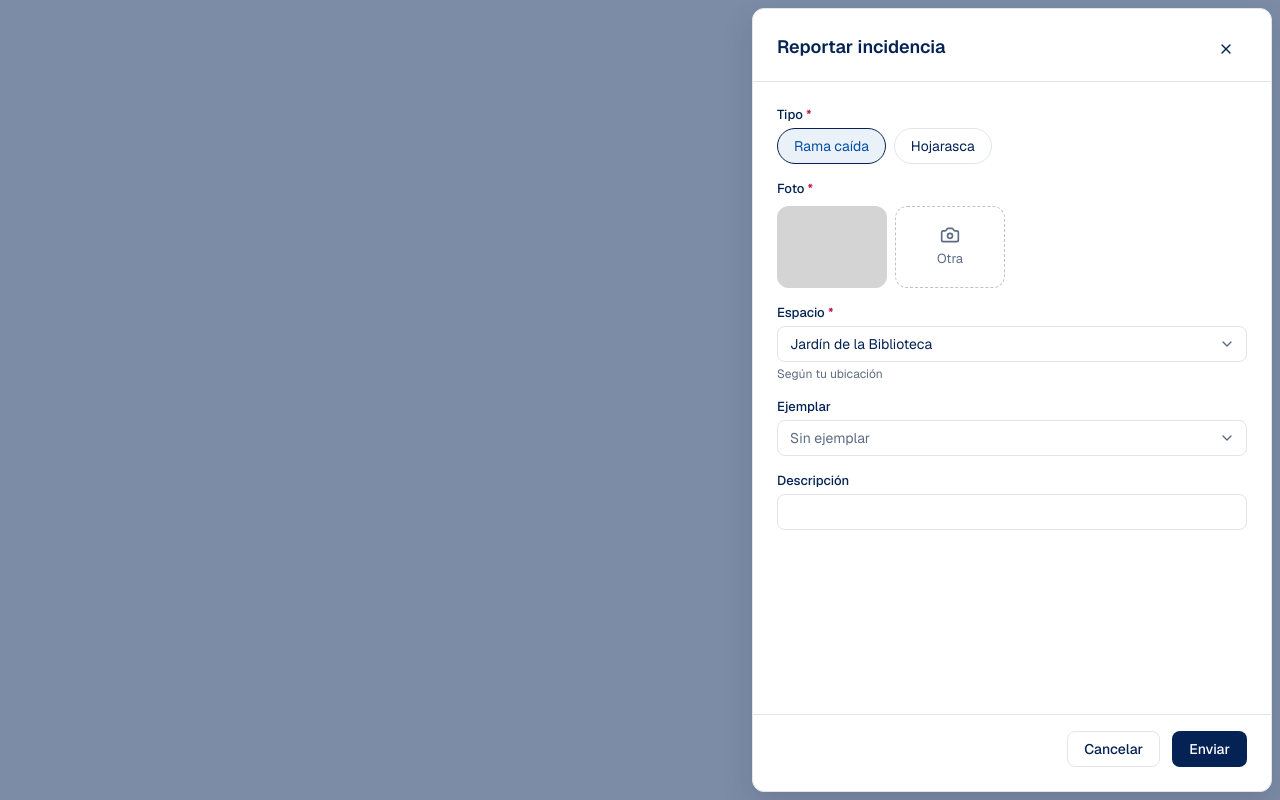
DialogoReportarIncidencia › si ya hay una abierta igual, la añade a la existente (Figma 391-8469)
Earlier steps of the test are not shown.
Later steps or results of the test are not shown.
Type "Rama sobre el paso peatonal" into the field labelled "Descripción" at (1012, 512), box x1=777 y1=494 x2=1247 y2=530
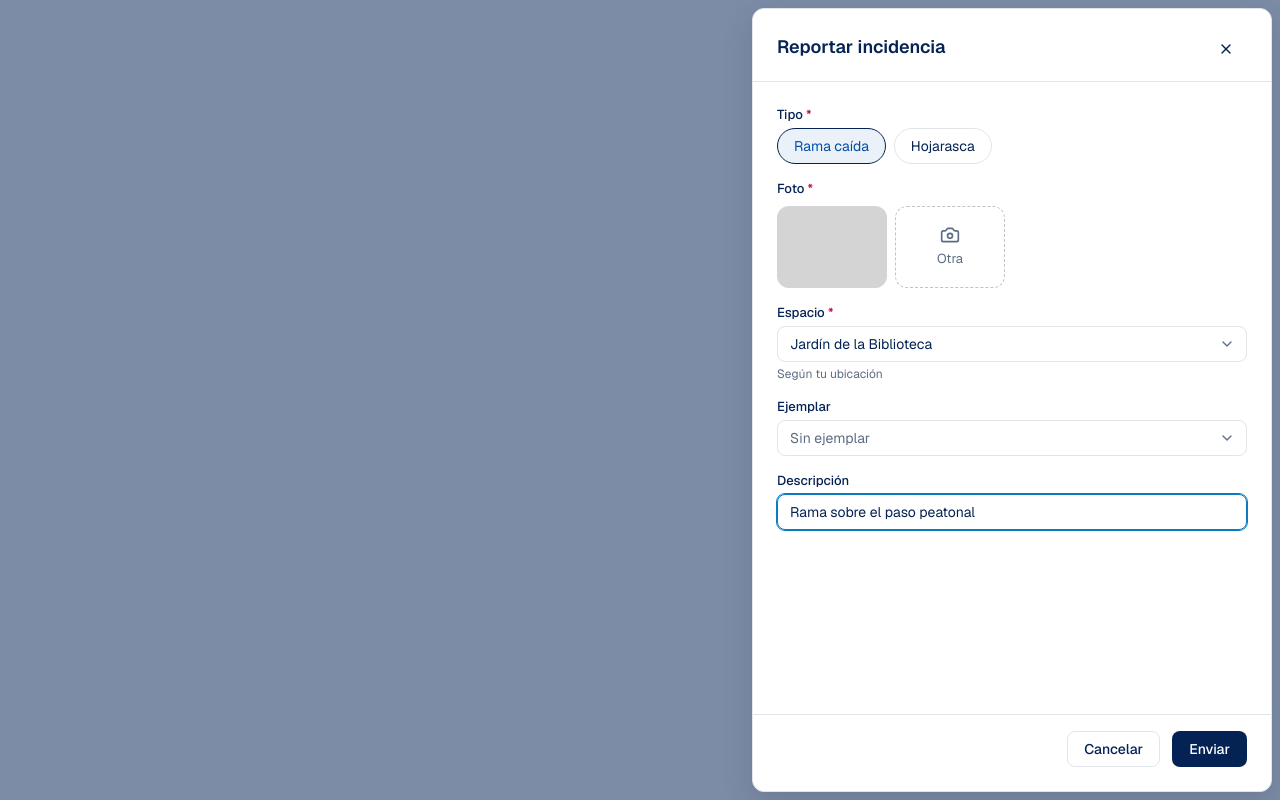
Click the button "Enviar" at (1210, 749), box x1=1172 y1=731 x2=1247 y2=767
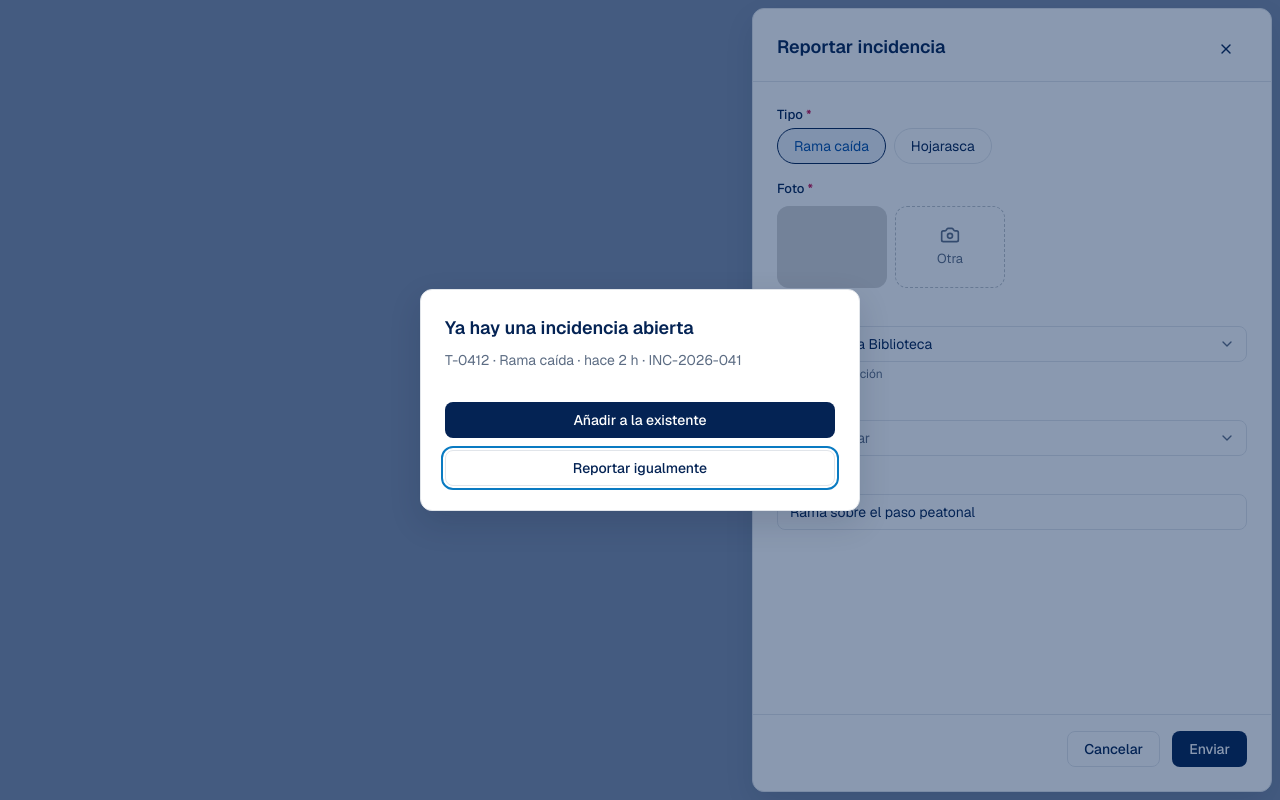
Check: the text "T-0412 · Rama caída · hace 2 h · INC-2026-041" is shown, box x1=445 y1=350 x2=742 y2=370
